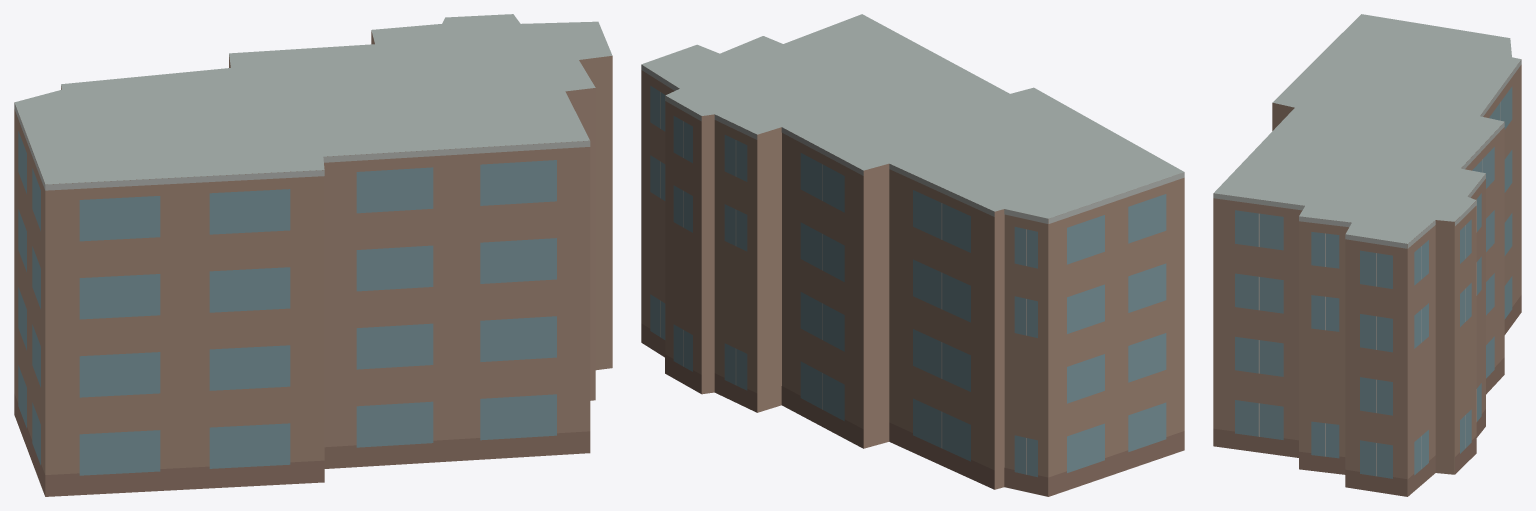
Rendered from survey-upis-32525917.glb.
The picture shows the model from 3 angles, left to right: view 1: azimuth 30°, elevation 25°; view 2: azimuth 150°, elevation 25°; view 3: azimuth 270°, elevation 25°; orthographic projection. The views are drawn at different scales.
Parts seen in each view (by area): view 1: survey-upis-32525917.tmp; view 2: survey-upis-32525917.tmp; view 3: survey-upis-32525917.tmp.
Boxes of the visible parts, <box> form: survey-upis-32525917.tmp: <box>14,14,612,496</box>; survey-upis-32525917.tmp: <box>641,14,1184,496</box>; survey-upis-32525917.tmp: <box>1213,14,1521,496</box>.
Size of the model in its own units: 24.17 by 12.4 by 13.7.
